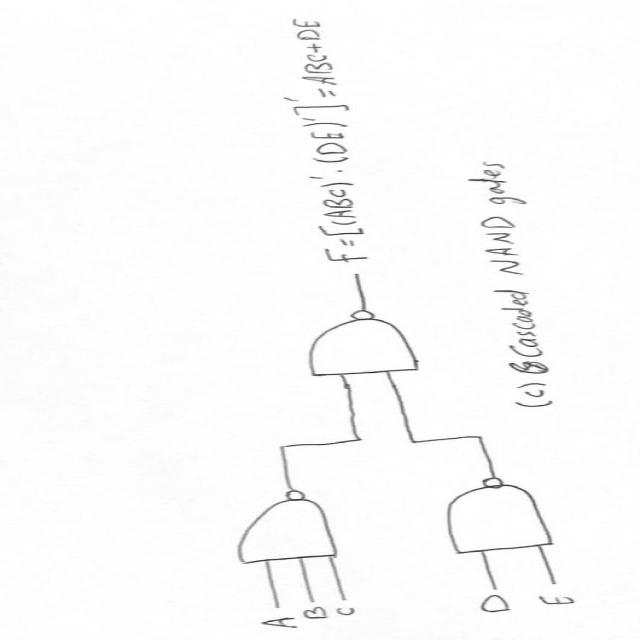NAND: (208, 482, 370, 572), (280, 304, 443, 385), (428, 472, 574, 562)
